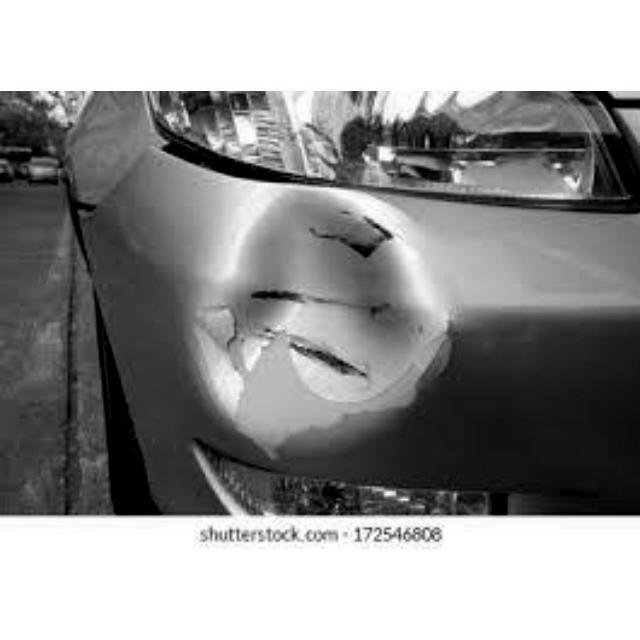front-bumper-dent: (59, 154, 580, 518)
